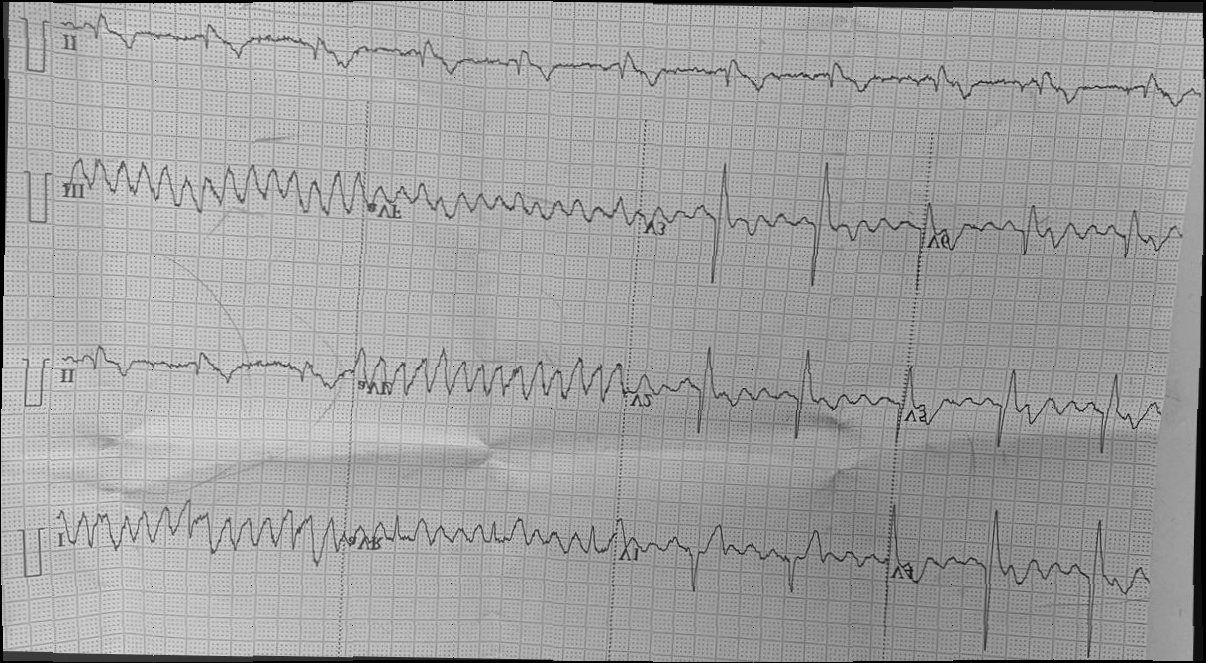Lead_I: (43, 488, 349, 576)
Lead_II: (52, 328, 357, 412)
Lead_III: (52, 144, 366, 230)
Lead_II_ext: (50, 0, 1206, 108)
Lead_V1: (617, 487, 896, 612)
Lead_V2: (628, 330, 912, 453)
Lead_V3: (635, 140, 936, 300)
Lead_V4: (889, 488, 1156, 663)
Lead_V5: (903, 346, 1177, 467)
Lead_V6: (921, 181, 1190, 294)
Lead_aVF: (357, 170, 642, 243)
Lead_aVL: (354, 342, 631, 420)
Lead_aVR: (346, 501, 622, 578)
